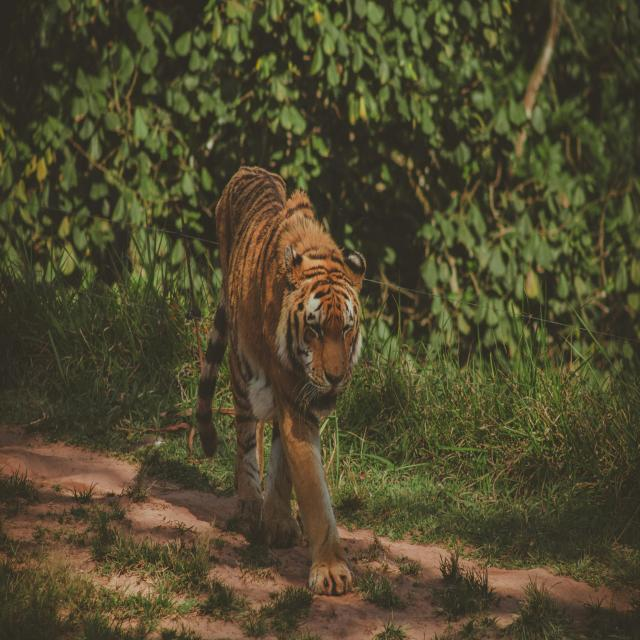Tiger: (196, 166, 368, 593)
